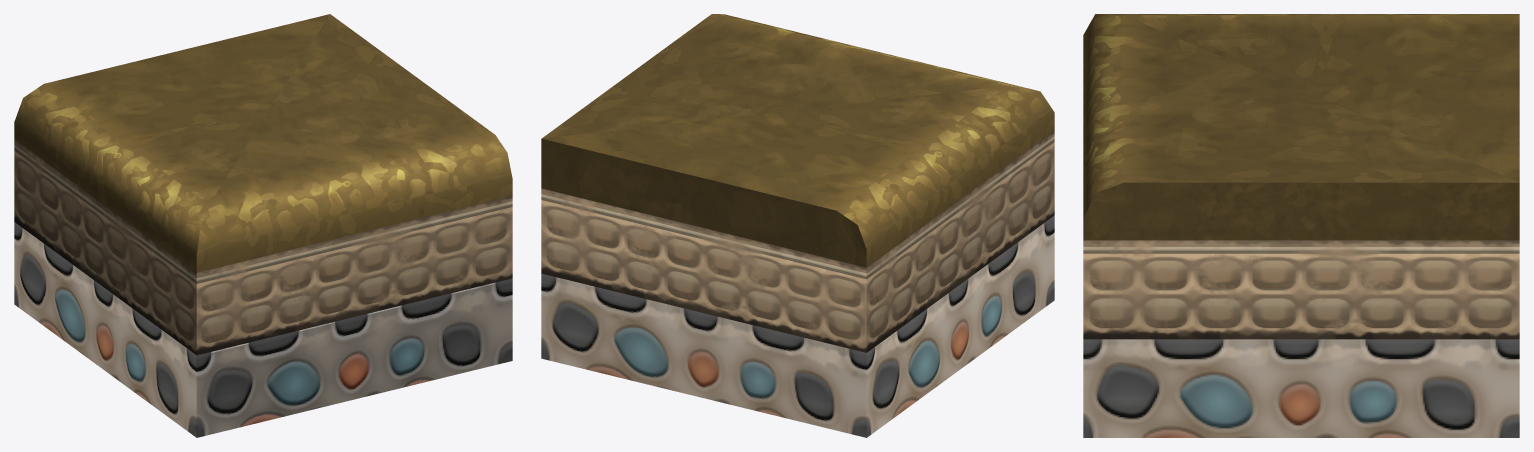
Rendered from DI_054_counter_corner.glb.
3 views of the same model, side by side, from view 1: azimuth 30°, elevation 25°; view 2: azimuth 150°, elevation 25°; view 3: azimuth 270°, elevation 25° (orthographic). The views are drawn at different scales.
Parts seen in each view (by area): view 1: Counter.001, Shelf.002; view 2: Counter.001, Shelf.002; view 3: Shelf.002, Counter.001.
Part boxes in pixels (x1,y1,x2,y2): Counter.001: (14,139,512,437); Shelf.002: (14,14,512,272); Counter.001: (541,130,1054,437); Shelf.002: (541,14,1054,267); Shelf.002: (1083,14,1519,240); Counter.001: (1083,240,1519,437).
Size of the model in its own units: 0.75 by 0.4847 by 0.75.
3 materials, 3 textured.
